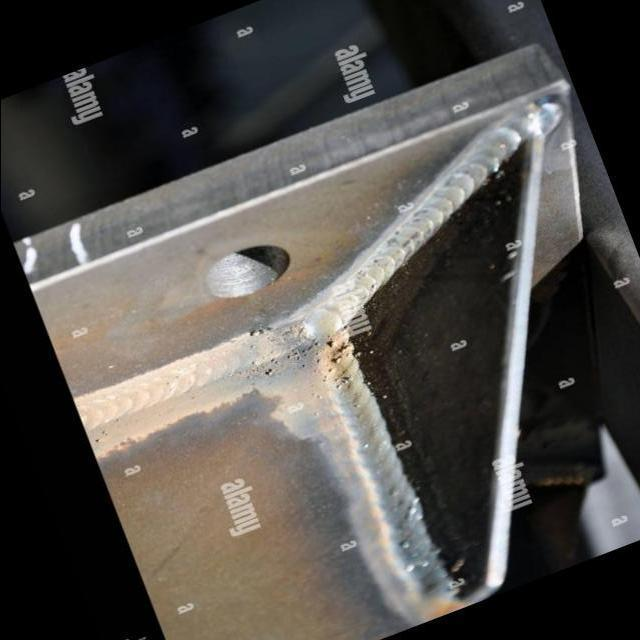defect: (321, 332, 355, 391), (284, 338, 321, 368), (264, 367, 281, 379), (248, 328, 264, 339), (250, 359, 261, 368), (269, 358, 280, 365)
